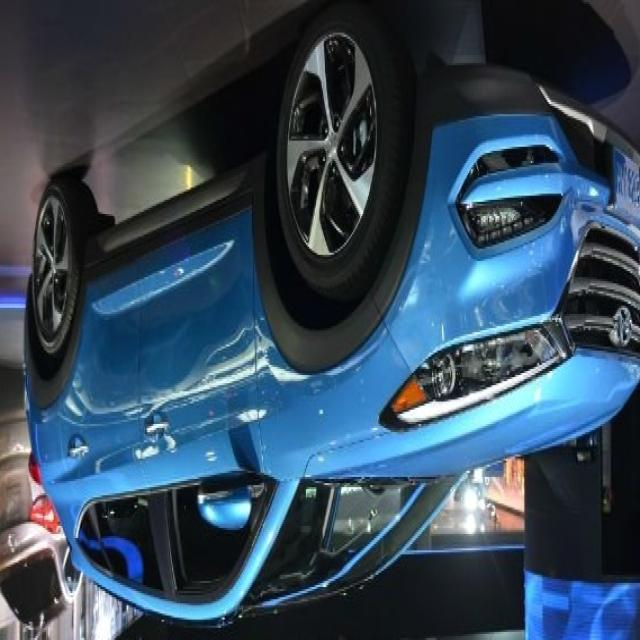blue: (27, 62, 640, 608)
